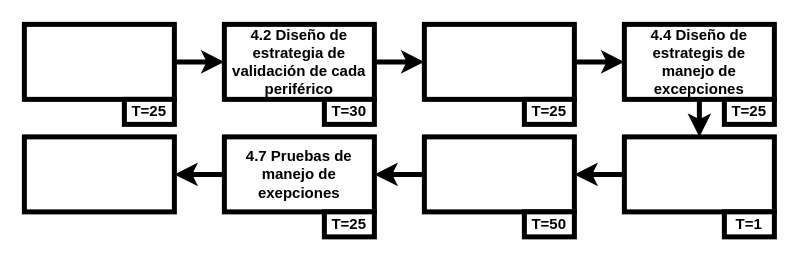
This 798x260 diagram has some shape labels left out. The centre of each missing label's shape, as x and y in pixels:
"4.1 Diseño de la estrategia de autovalidación del estado del DUT" goes at [98,61].
"4.3 Análisis de los posibles SEFI-SEU que alteren la secuencia" goes at [498,61].
"4.5 Reunión de control y aceptación del diseño" goes at [698,174].
"4.6 Condificación del firmware" goes at [498,174].
"FIN PROCESO EN DUT" goes at [98,174].
